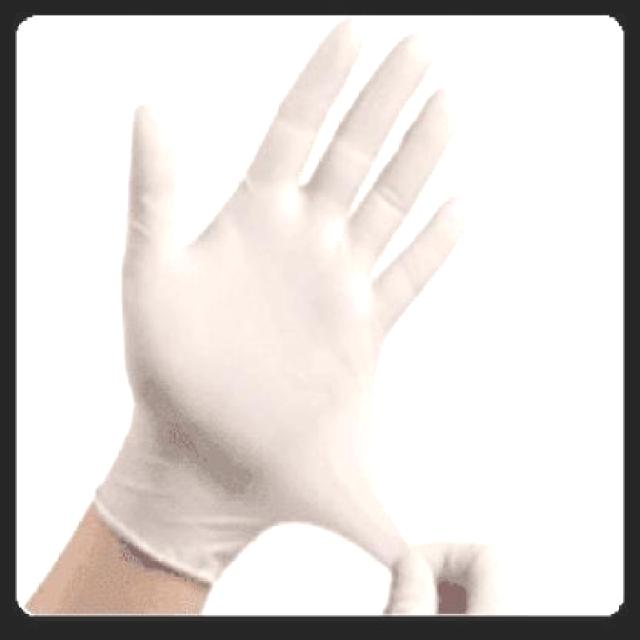glove: (59, 20, 478, 562)
